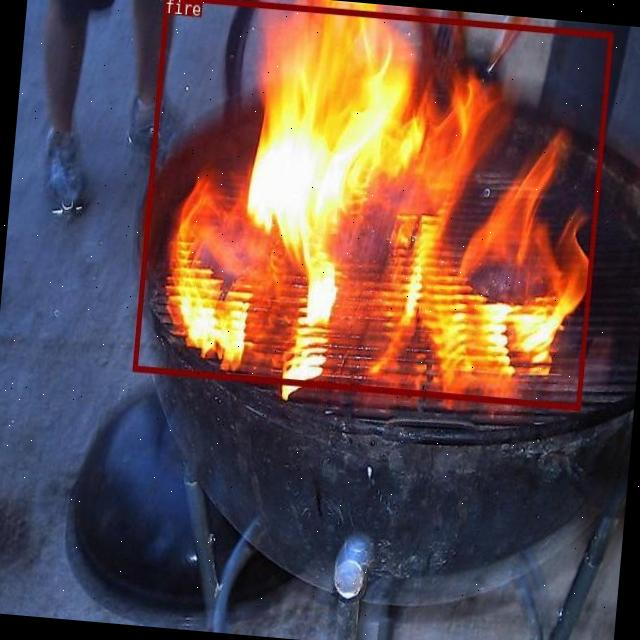fire: (132, 0, 612, 408)
